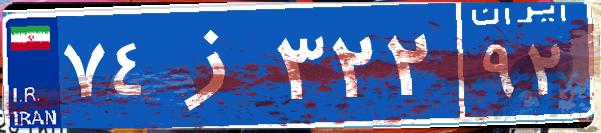2: (385, 28, 445, 110), (330, 28, 385, 110), (525, 38, 570, 115)
3: (273, 28, 330, 110)
4: (110, 28, 158, 105)
7: (57, 26, 110, 107)
9: (475, 38, 525, 113)
ز: (158, 15, 273, 115)
